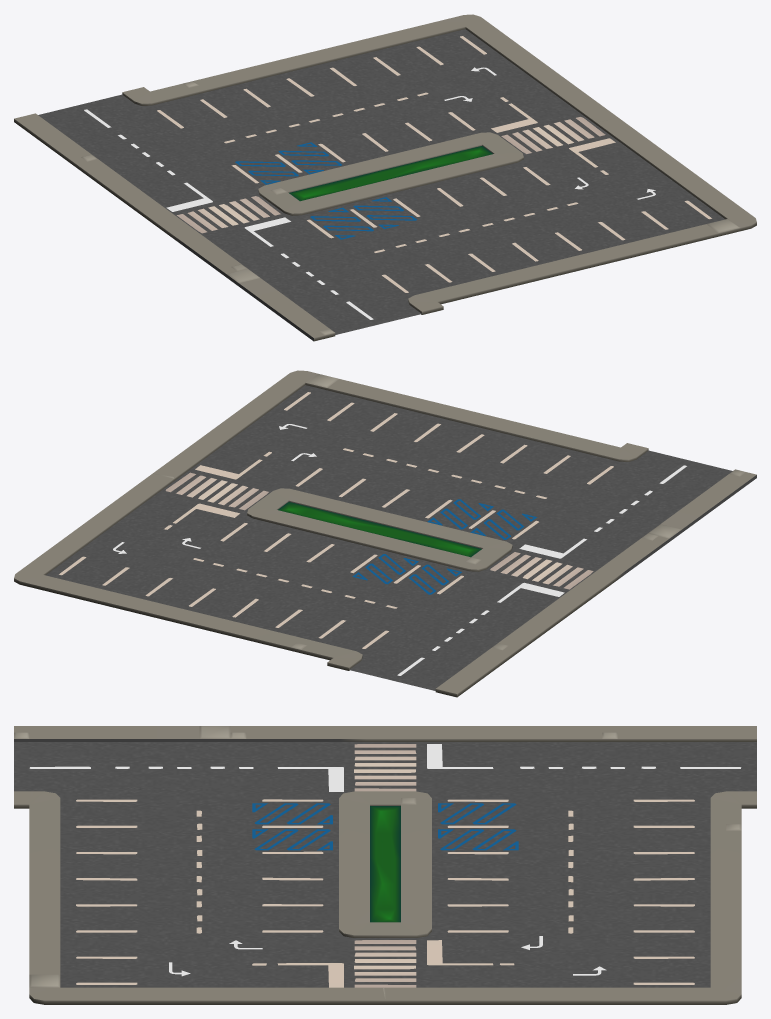
Rendered from Road12.fbx.
3 renders of one model, top to bottom at view 1: azimuth 30°, elevation 25°; view 2: azimuth 150°, elevation 25°; view 3: azimuth 270°, elevation 25°, orthographic. The views are drawn at different scales.
Visible parts, largest first — view 1: Parking_1B; view 2: Parking_1B; view 3: Parking_1B.
Part boxes in pixels (x1,y1,x2,y2): Parking_1B: (14, 14, 756, 341); Parking_1B: (14, 370, 756, 697); Parking_1B: (14, 726, 756, 1004).
Bounding box in the file's own units: 78482 × 666 × 89693.
